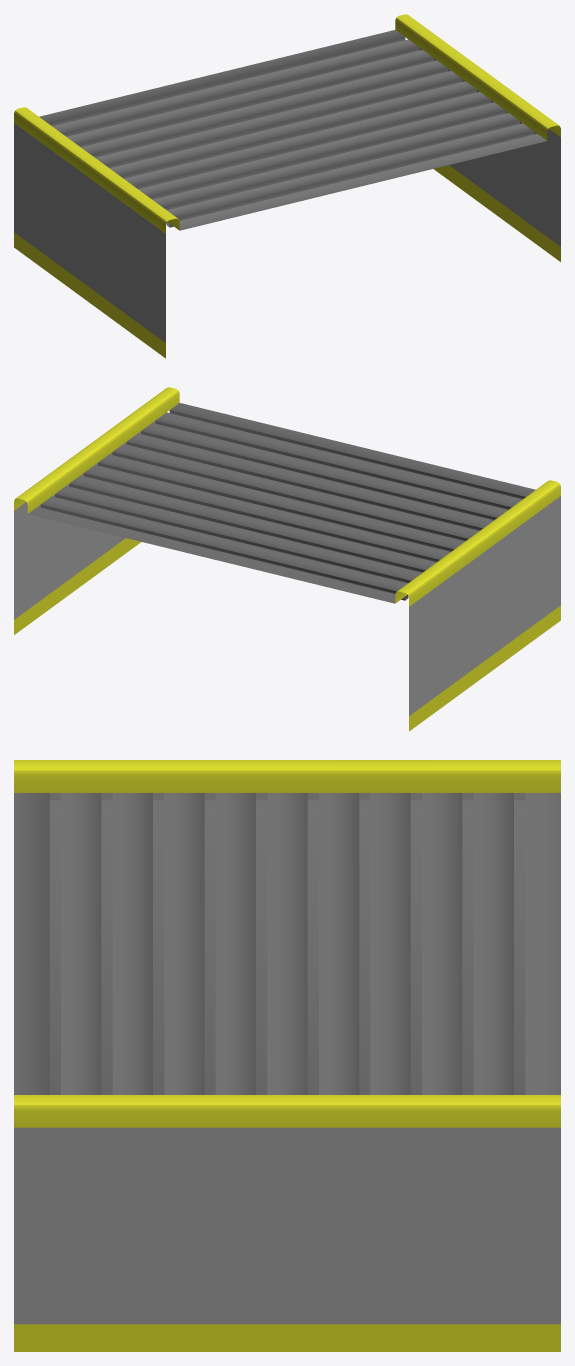
The model's file is ShortConveyorSegment.fbx.
3 views of the same model, one above another, from view 1: azimuth 30°, elevation 25°; view 2: azimuth 150°, elevation 25°; view 3: azimuth 270°, elevation 25° (orthographic). The views are drawn at different scales.
Visible parts, largest first — view 1: ConveyorSegment; view 2: ConveyorSegment; view 3: ConveyorSegment.
Part boxes in pixels (<box>): ConveyorSegment: <box>14,14,560,358</box>; ConveyorSegment: <box>14,387,560,731</box>; ConveyorSegment: <box>14,760,560,1351</box>.
Bounding box in the file's own units: 300 × 100 × 200.
